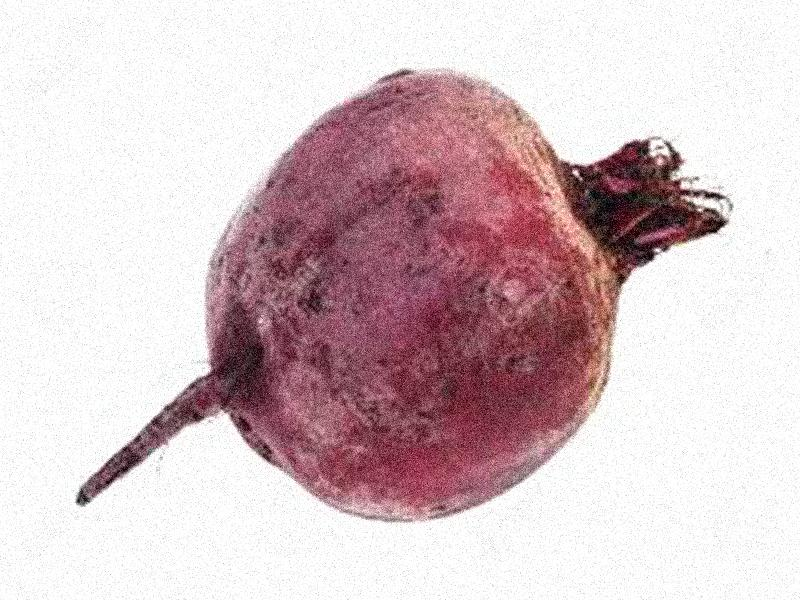Beet: (83, 75, 726, 519)
